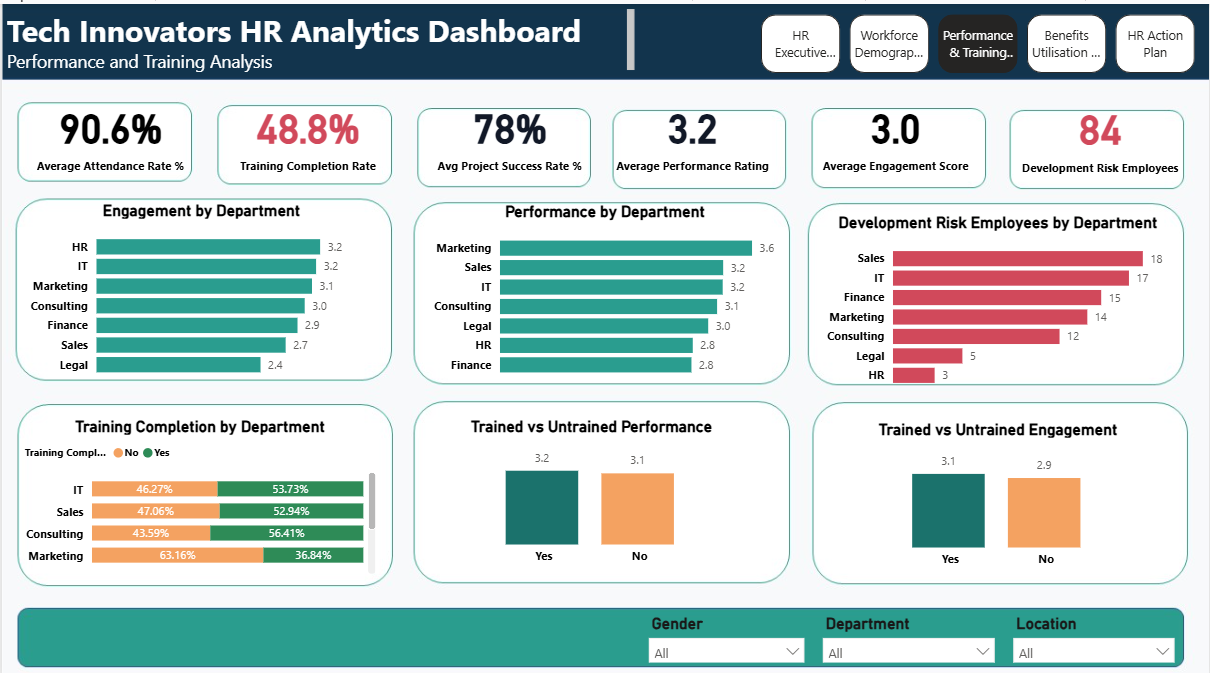

What the dashboard file says about the page in this screenshot:
{"tool":"powerbi","page":{"name":"Performance & Training Analysis","canvas":[1280,720],"ordinal":2},"visuals":[{"type":"cardVisual","fields":{"Data":["Measures_Table.Average Performance Rating"]},"box":[620.3,101.8,224.3,84.3],"z":0},{"type":"cardVisual","fields":{"Data":["Measures_Table.Average Engagement Score"]},"box":[844.6,101.8,206.8,84.3],"z":1000},{"type":"cardVisual","fields":{"Data":["Measures_Table.Training Completion Rate"]},"box":[227.5,101.8,194.1,84.3],"z":2000},{"type":"cardVisual","fields":{"Data":["Measures_Table.Average Attendance Rate %"]},"box":[19.1,101.8,192.5,84.3],"z":3000},{"type":"cardVisual","fields":{"Data":["Employee_Performance_Data.At-Risk Employees"]},"box":[1056.2,105,217.9,81.1],"z":4000},{"type":"cardVisual","fields":{"Data":["Measures_Table.Average Project Delivery Success Rate %"]},"box":[437.4,101.8,202,84.3],"z":5000},{"type":"clusteredBarChart","title":"Performance by Department","fields":{"Category":["Employee_Performance_Data.Department"],"Y":["Measures_Table.Average Performance Rating"]},"box":[451.7,210,375.4,194.1],"z":6000},{"type":"clusteredBarChart","title":"Engagement by Department","fields":{"Category":["Employee_Performance_Data.Department"],"Y":["Measures_Table.Average Engagement Score"]},"box":[23.9,208.4,375.4,195.6],"z":7000},{"type":"hundredPercentStackedBarChart","title":"Training Completion by Department","fields":{"Category":["Employee_Performance_Data.Department"],"Series":["Employee_Performance_Data.Training Completed"],"Y":["CountNonNull(Employee_Demographics_Data.Employee ID)"]},"box":[19.1,437.4,381.7,171.8],"z":8000},{"type":"barChart","fields":{"Category":["Employee_Performance_Data.Department"],"Y":["Employee_Performance_Data.Development Risk Employees"]},"box":[868.5,221.1,375.4,194.1],"z":9000},{"type":"clusteredColumnChart","title":"Trained vs Untrained Performance","fields":{"Category":["Employee_Performance_Data.Training Completed"],"Y":["Measures_Table.Average Performance Rating"]},"box":[437.4,437.4,375.4,165.4],"z":10000},{"type":"slicer","fields":{"Values":["Employee_Demographics_Data.Location"]},"box":[1062.3,641.6,190.4,57.1],"z":11000},{"type":"slicer","fields":{"Values":["Employee_Demographics_Data.Gender"]},"box":[675.9,641.6,184.7,57.1],"z":12000},{"type":"slicer","fields":{"Values":["Employee_Performance_Data.Department"]},"box":[860.5,641.6,201.8,57.1],"z":13000},{"type":"textbox","box":[0,0,675.9,76.2],"z":14000},{"type":"pageNavigator","box":[804.8,11.1,464.5,62],"z":15000},{"type":"actionButton","box":[901.9,14.3,79.5,55.7],"z":16000},{"type":"actionButton","box":[803.3,9.5,81.1,63.6],"z":17000},{"type":"actionButton","box":[1089.6,9.5,87.5,66.8],"z":18000},{"type":"clusteredColumnChart","title":"Trained vs Untrained Engagement","fields":{"Category":["Employee_Performance_Data.Training Completed"],"Y":["Measures_Table.Average Engagement Score"]},"box":[868.5,440.6,375.4,165.4],"z":19000},{"type":"actionButton","box":[1177.1,12.7,93.8,60.4],"z":20000}]}

Visuals, with their boxes in screenshot pixels (x1, y1, x2, y2), scaled from the page's 1280x720 canvas onto the 1210x673 screenshot:
cardVisual - Measures_Table.Average Performance Rating: bbox=[586, 95, 798, 174]
cardVisual - Measures_Table.Average Engagement Score: bbox=[798, 95, 994, 174]
cardVisual - Measures_Table.Training Completion Rate: bbox=[215, 95, 399, 174]
cardVisual - Measures_Table.Average Attendance Rate %: bbox=[18, 95, 200, 174]
cardVisual - Employee_Performance_Data.At-Risk Employees: bbox=[998, 98, 1204, 174]
cardVisual - Measures_Table.Average Project Delivery Success Rate %: bbox=[413, 95, 604, 174]
"Performance by Department" clusteredBarChart: bbox=[427, 196, 782, 378]
"Engagement by Department" clusteredBarChart: bbox=[23, 195, 377, 378]
"Training Completion by Department" hundredPercentStackedBarChart: bbox=[18, 409, 379, 569]
barChart - Employee_Performance_Data.Department x Employee_Performance_Data.Development Risk Employees: bbox=[821, 207, 1176, 388]
"Trained vs Untrained Performance" clusteredColumnChart: bbox=[413, 409, 768, 563]
slicer - Employee_Demographics_Data.Location: bbox=[1004, 600, 1184, 653]
slicer - Employee_Demographics_Data.Gender: bbox=[639, 600, 814, 653]
slicer - Employee_Performance_Data.Department: bbox=[813, 600, 1004, 653]
textbox: bbox=[0, 0, 639, 71]
pageNavigator: bbox=[761, 10, 1200, 68]
actionButton: bbox=[853, 13, 928, 65]
actionButton: bbox=[759, 9, 836, 68]
actionButton: bbox=[1030, 9, 1113, 71]
"Trained vs Untrained Engagement" clusteredColumnChart: bbox=[821, 412, 1176, 566]
actionButton: bbox=[1113, 12, 1201, 68]
